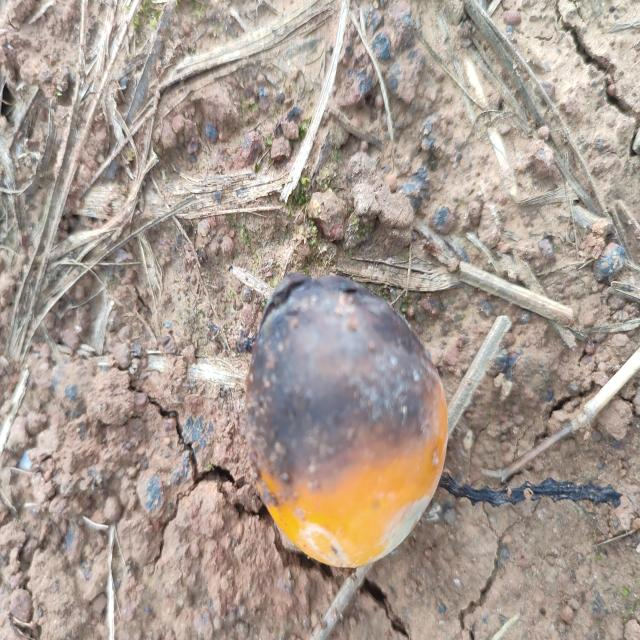damaged: (245, 274, 450, 573)
